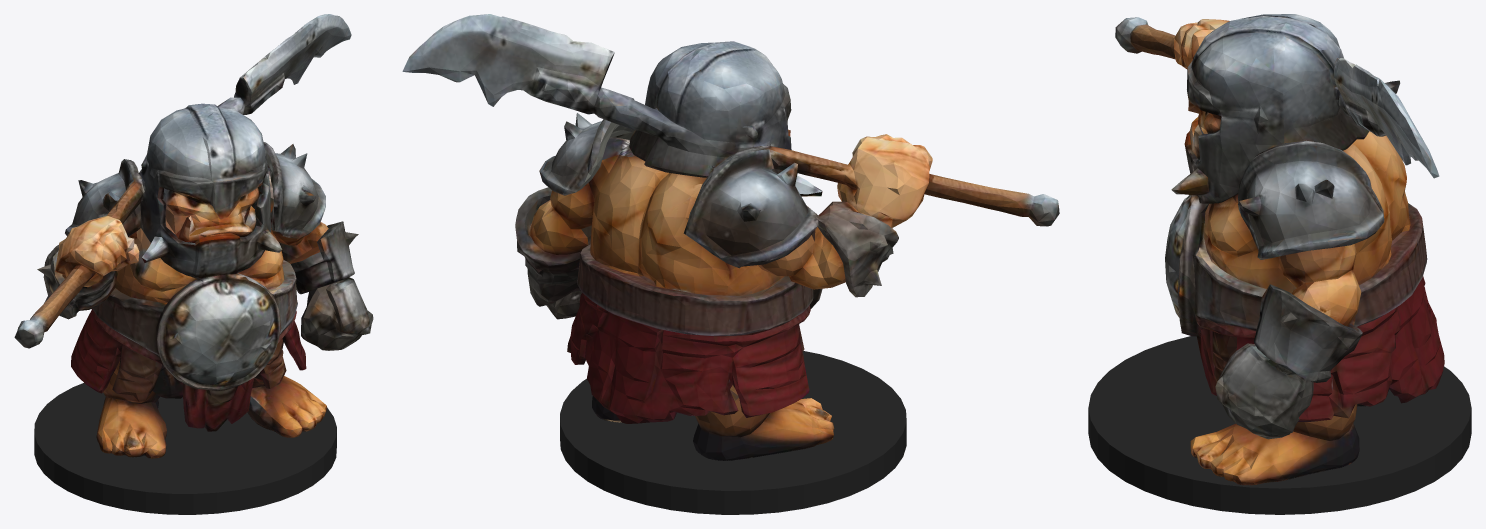
The model's file is ogm-irongut.glb.
3 views of the same model, side by side, from view 1: azimuth 30°, elevation 25°; view 2: azimuth 150°, elevation 25°; view 3: azimuth 270°, elevation 25° (orthographic). The views are drawn at different scales.
Parts seen in each view (by area): view 1: figure, base; view 2: figure, base; view 3: figure, base.
Boxes of the visible parts, box(x1,y1,x2,y2) form: figure: box(14, 14, 373, 458); base: box(34, 383, 336, 514); figure: box(402, 14, 1059, 460); base: box(560, 351, 906, 514); figure: box(1115, 14, 1444, 485); base: box(1088, 336, 1471, 514).
Bounding box in the file's own units: 2.71 × 2.07 × 1.57.
2 materials, 1 textured.
